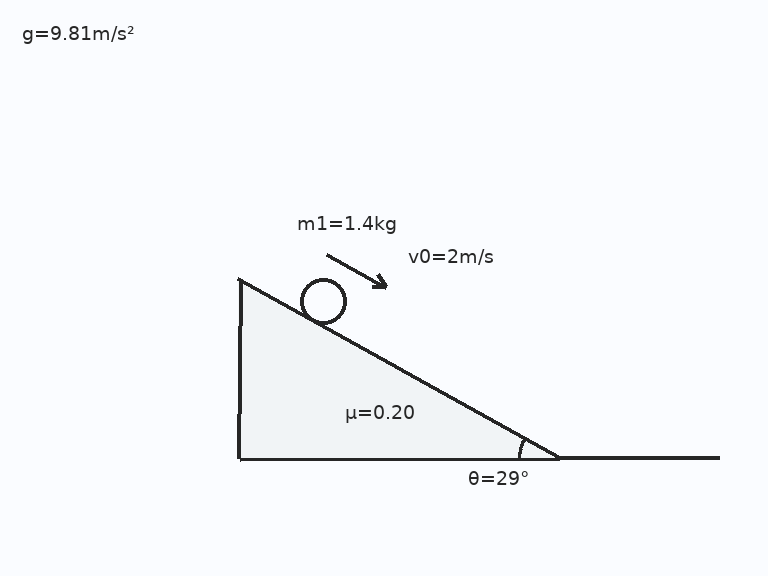ball: (298, 276, 348, 326)
ramp: (237, 279, 561, 460)
